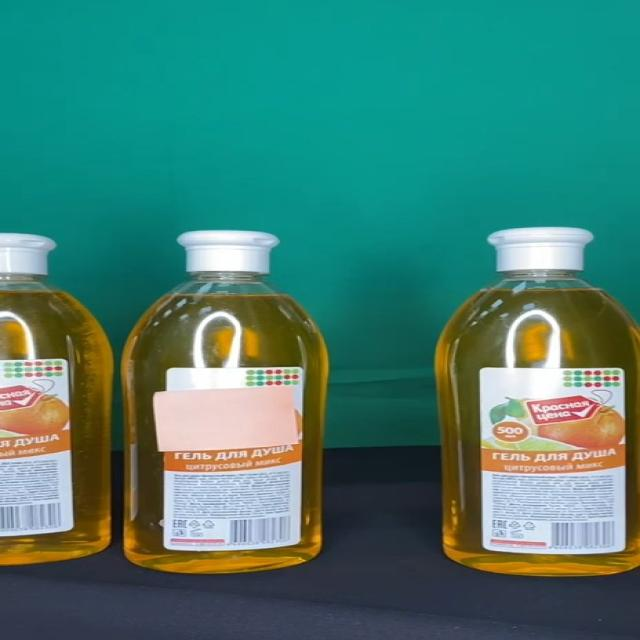Bottle: (432, 228, 640, 576), (123, 230, 331, 574)
Cap: (488, 228, 593, 272), (177, 230, 280, 274)
